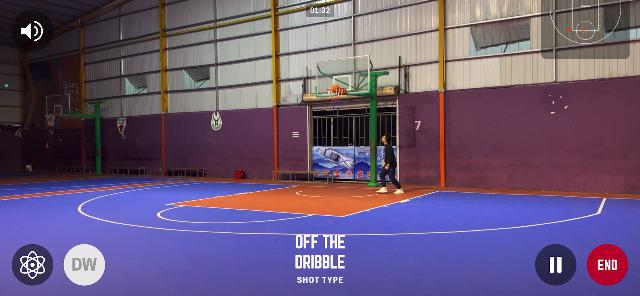ball: (332, 84, 340, 92)
basket: (327, 88, 345, 102)
